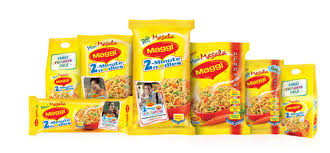maggie: (130, 21, 192, 137), (191, 42, 246, 137), (29, 96, 129, 132), (80, 36, 129, 98)
